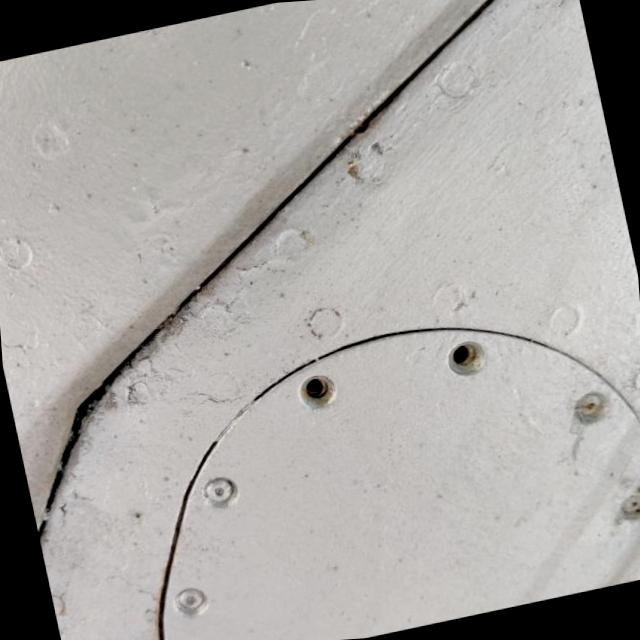Missing Fastener: (298, 374, 334, 409), (448, 341, 484, 375)
